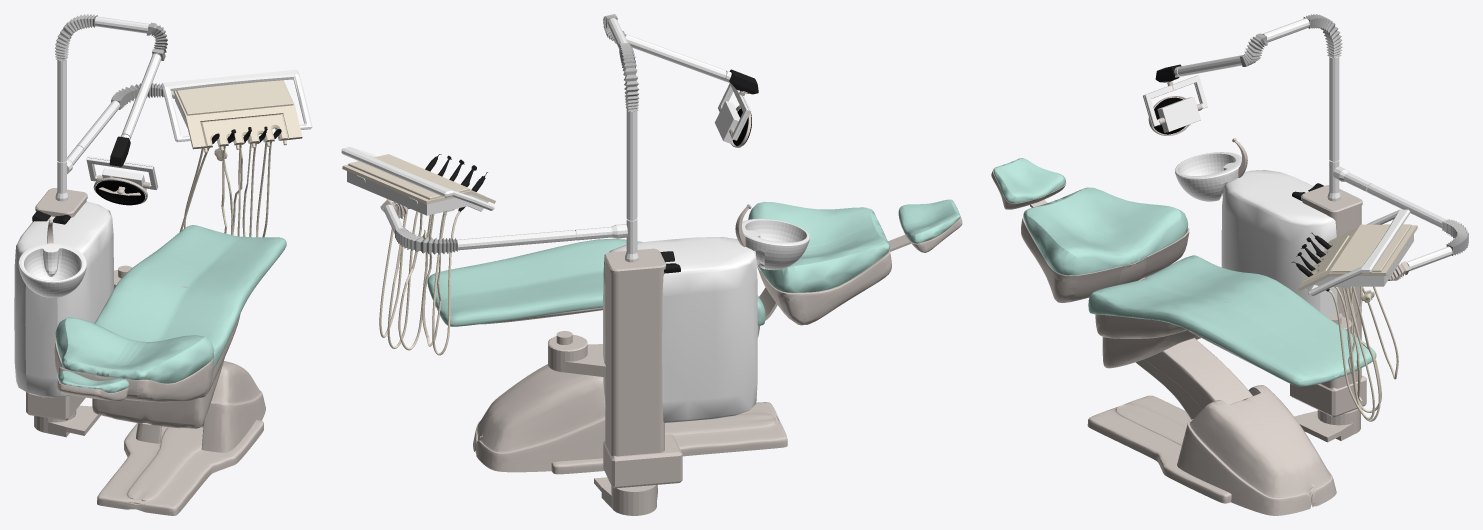
Rendered from dental_chair2.glb.
3 renders of one model, left to right at view 1: azimuth 30°, elevation 25°; view 2: azimuth 150°, elevation 25°; view 3: azimuth 270°, elevation 25°, orthographic. The views are drawn at different scales.
Visible parts, largest first — view 1: 3DSMeshMatrix (×12); view 2: 3DSMeshMatrix (×10); view 3: 3DSMeshMatrix (×12).
Part boxes in pixels (bbox=[...]): 3DSMeshMatrix (×12): bbox=[14, 14, 312, 515]; 3DSMeshMatrix (×10): bbox=[341, 14, 960, 515]; 3DSMeshMatrix (×12): bbox=[993, 14, 1468, 515].
Bounding box in the file's own units: 196 × 190 × 195.
